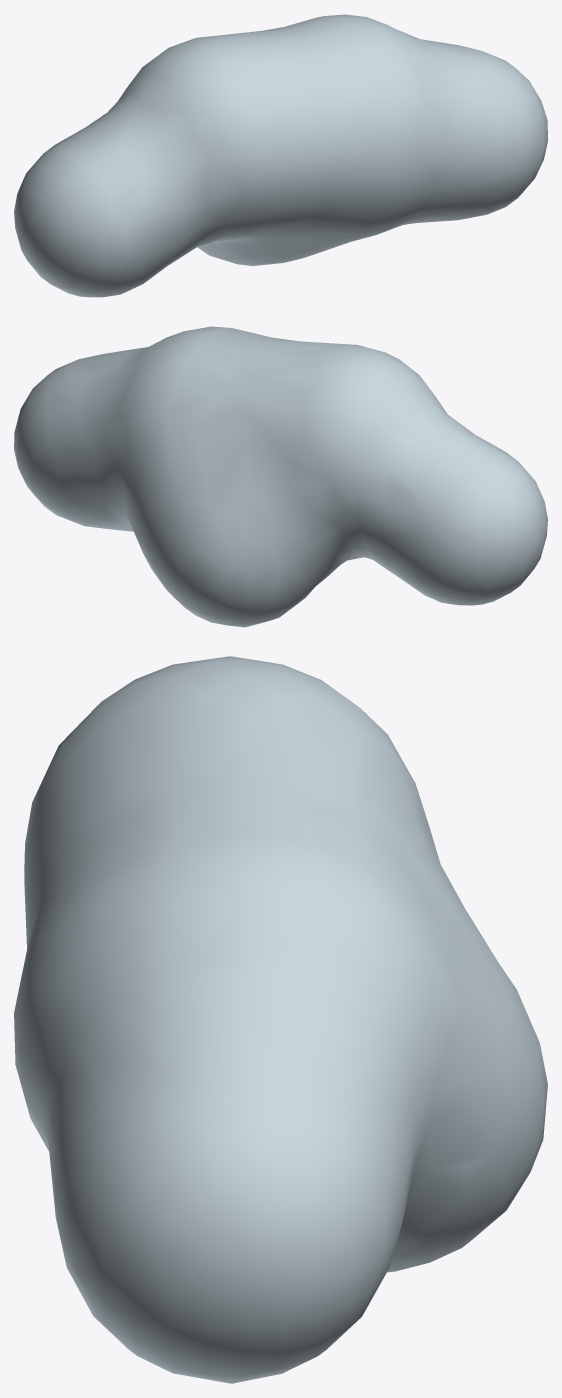
The model's file is cloud_cluster_b.glb.
3 views of the same model, one above another, from view 1: azimuth 30°, elevation 25°; view 2: azimuth 150°, elevation 25°; view 3: azimuth 270°, elevation 25° (orthographic). The views are drawn at different scales.
Parts seen in each view (by area): view 1: cloud_cluster_b; view 2: cloud_cluster_b; view 3: cloud_cluster_b.
Part boxes in pixels (x1,y1,x2,y2): cloud_cluster_b: (14, 14, 547, 297); cloud_cluster_b: (14, 326, 547, 627); cloud_cluster_b: (14, 656, 547, 1383).
Bounding box in the file's own units: 5.15 × 2.45 × 2.33.
